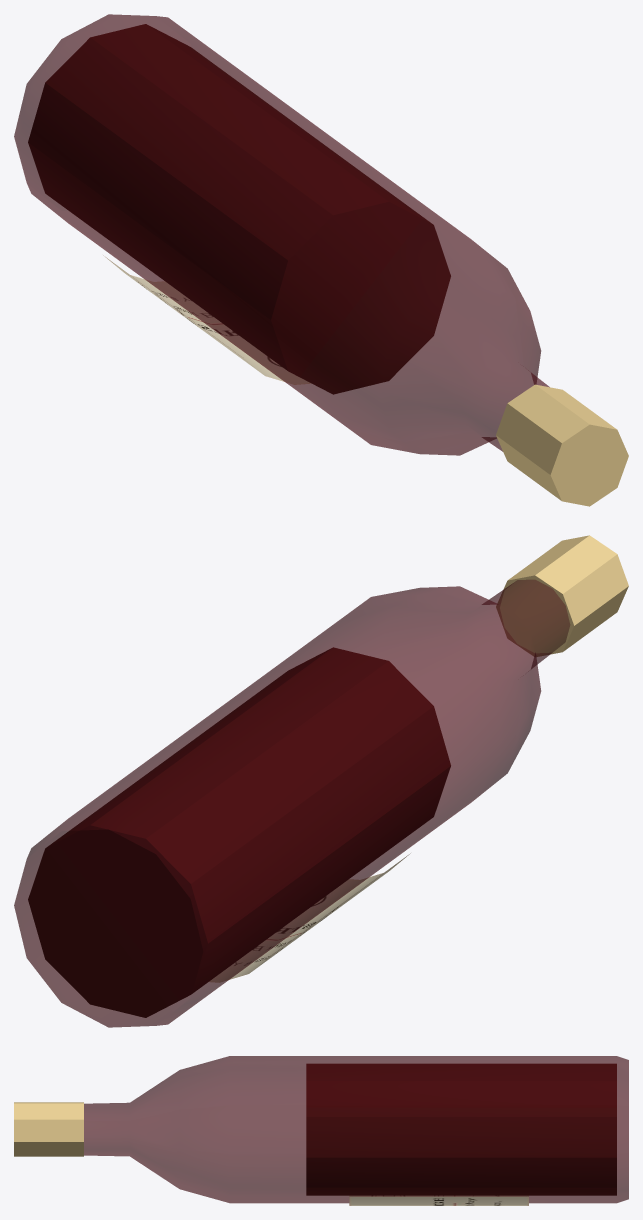
File: bottle_wine_1_tilt90_0.glb
The picture shows the model from 3 angles, top to bottom: view 1: azimuth 30°, elevation 25°; view 2: azimuth 150°, elevation 25°; view 3: azimuth 270°, elevation 25°; orthographic projection. The views are drawn at different scales.
Parts seen in each view (by area): view 1: Bottle, Drink, Cap, Label; view 2: Bottle, Drink, Cap, Label; view 3: Bottle, Drink, Cap, Label.
Part boxes in pixels (x1,y1,x2,y2): Bottle: [14, 14, 549, 455]; Drink: [28, 24, 450, 394]; Cap: [496, 384, 628, 506]; Label: [103, 255, 310, 384]; Bottle: [14, 580, 569, 1027]; Drink: [28, 647, 450, 1017]; Cap: [496, 535, 628, 656]; Label: [209, 853, 410, 982]; Bottle: [84, 1056, 628, 1203]; Drink: [306, 1063, 616, 1195]; Cap: [14, 1102, 83, 1156]; Label: [349, 1196, 528, 1205].
Bounding box in the file's own units: 0.074 × 0.0755 × 0.308.
4 materials, 3 textured.
